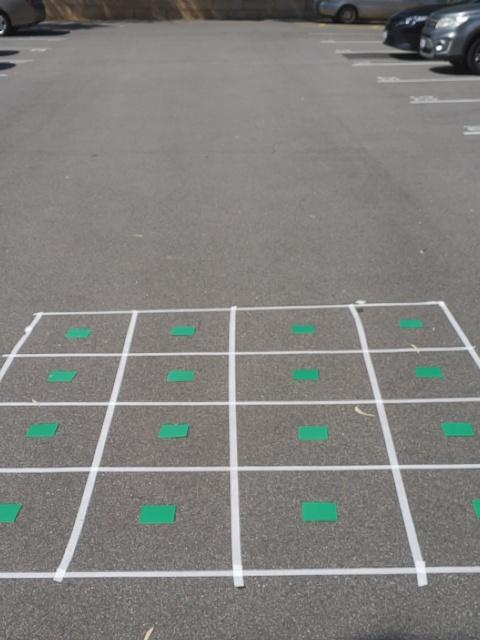weed: (138, 502, 179, 528), (300, 499, 341, 523), (156, 420, 193, 441), (293, 423, 331, 443), (440, 420, 477, 439), (0, 500, 28, 524), (164, 366, 200, 384), (24, 422, 59, 439), (44, 368, 77, 386), (413, 363, 446, 381), (292, 366, 321, 382), (291, 320, 317, 337), (398, 317, 424, 331), (171, 323, 200, 334), (67, 328, 90, 340), (470, 494, 480, 518)
